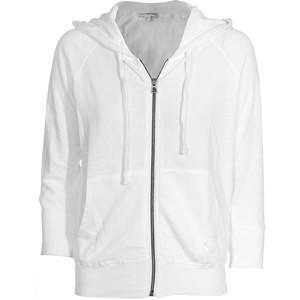C_jacket: (39, 1, 274, 297)
